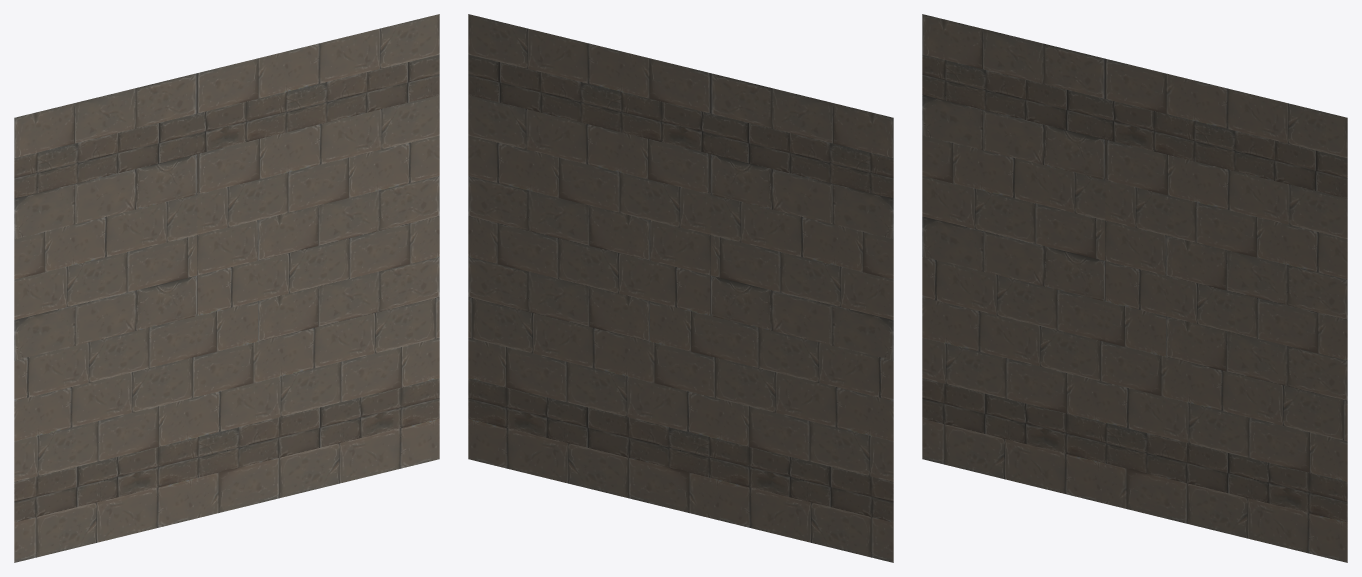
Rendered from RuinsArchWallBase.fbx.
The picture shows the model from 3 angles, left to right: view 1: azimuth 30°, elevation 25°; view 2: azimuth 150°, elevation 25°; view 3: azimuth 330°, elevation 25°; orthographic projection.
Visible parts, largest first — view 1: ArchWallBase; view 2: ArchWallBase; view 3: ArchWallBase.
Part boxes in pixels (left/top/right/bottom): ArchWallBase: left=14, top=14, right=439, bottom=562; ArchWallBase: left=468, top=14, right=893, bottom=562; ArchWallBase: left=922, top=14, right=1347, bottom=562.
Bounding box in the file's own units: 800 × 800 × 0.
